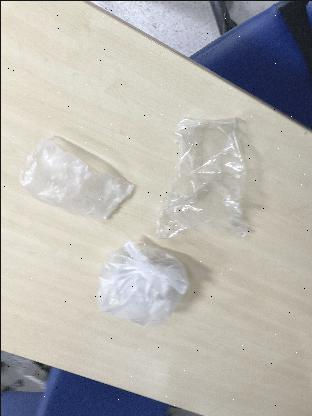Others: (148, 109, 264, 245), (17, 122, 138, 233), (86, 233, 196, 329)
